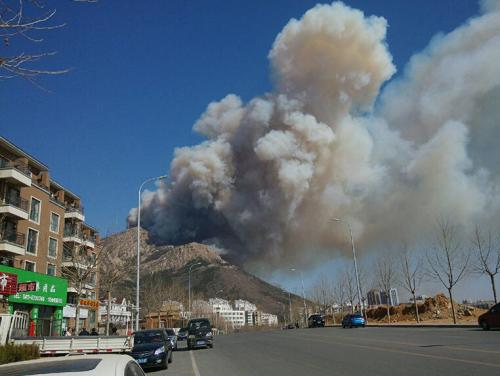smoke: (139, 17, 494, 223)
